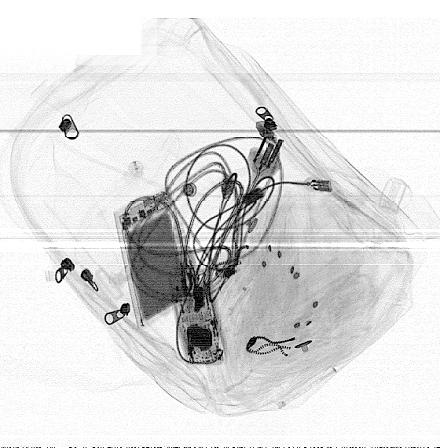Powerbank: (114, 186, 193, 328)
